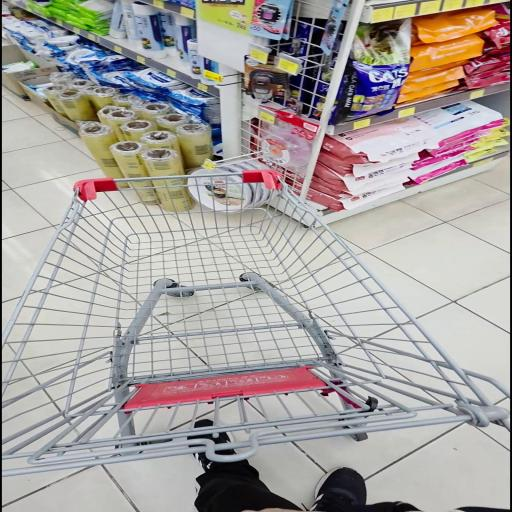empty_cart: (3, 168, 510, 477)
